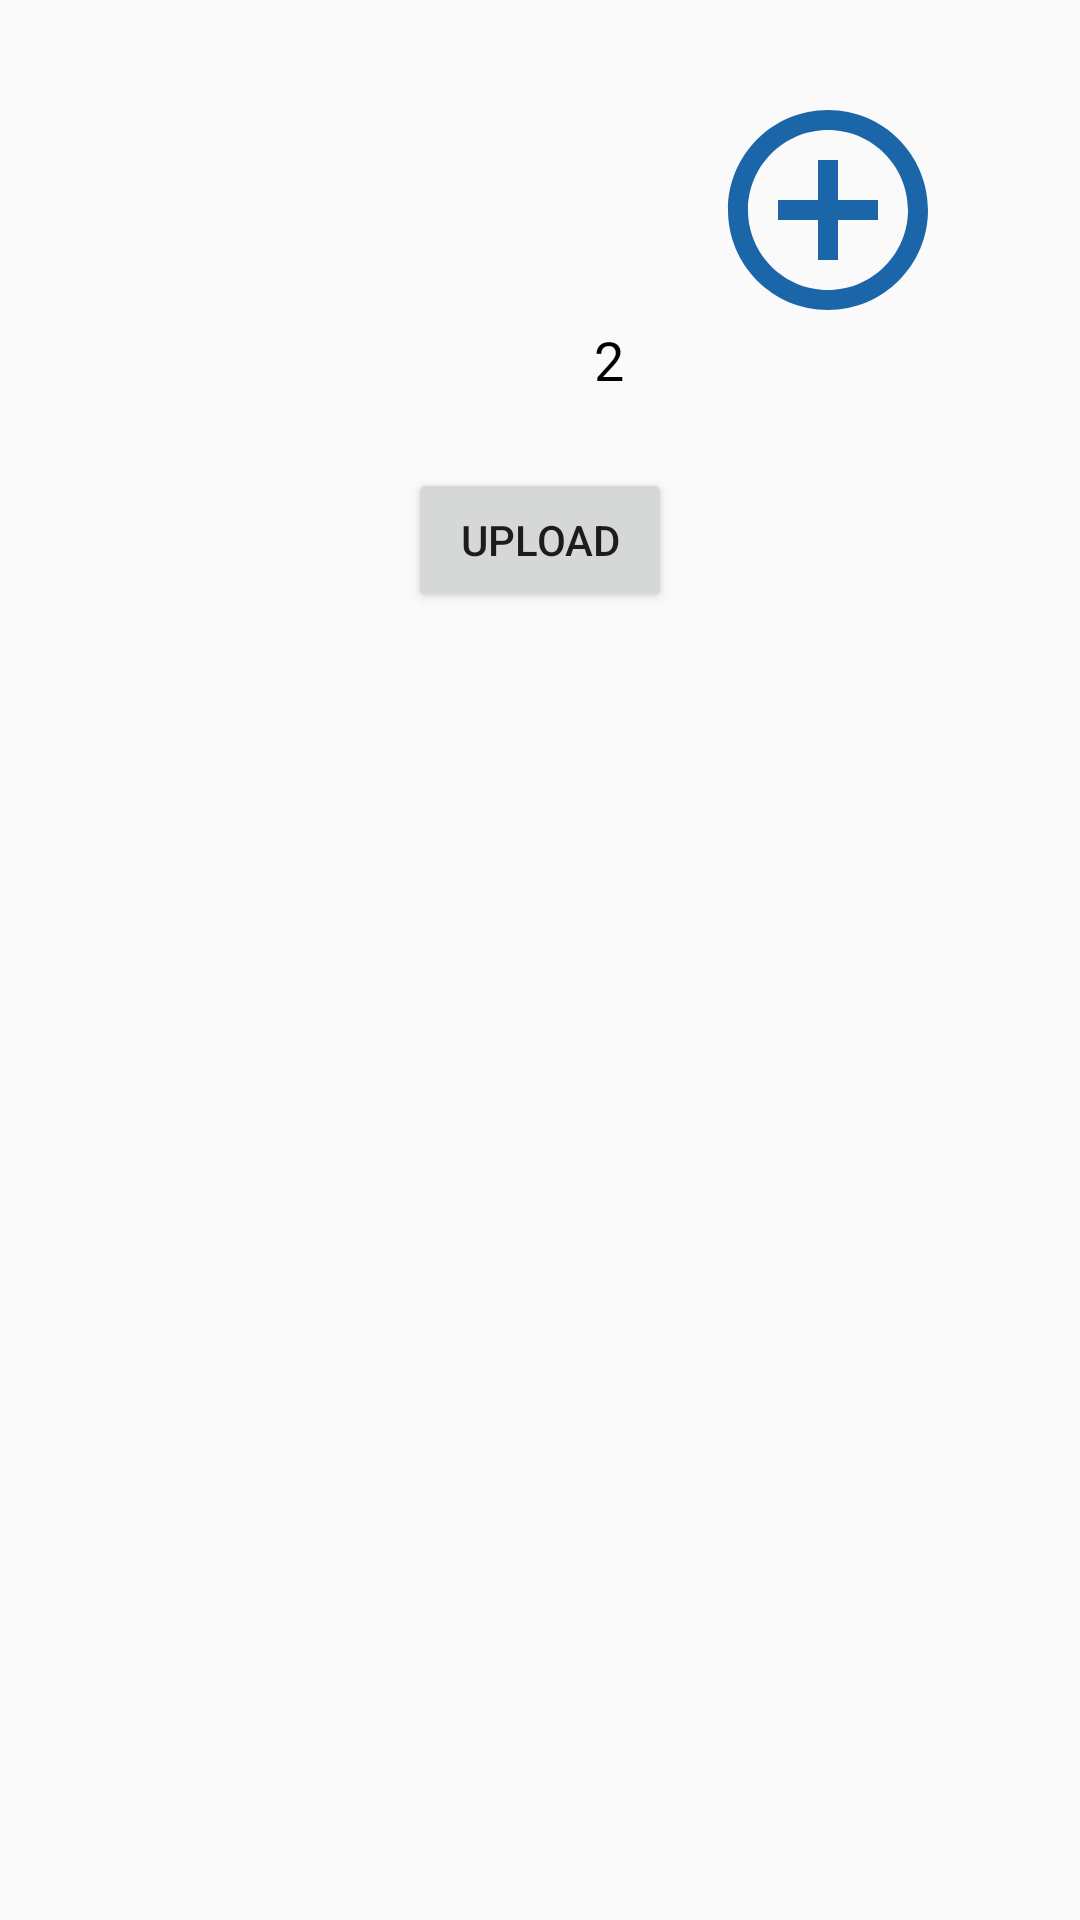

Screen size 1080x1920. Icon name, then its box in pixels as (x1, y1, x2, y2):
add circle: (727, 110, 928, 310)
